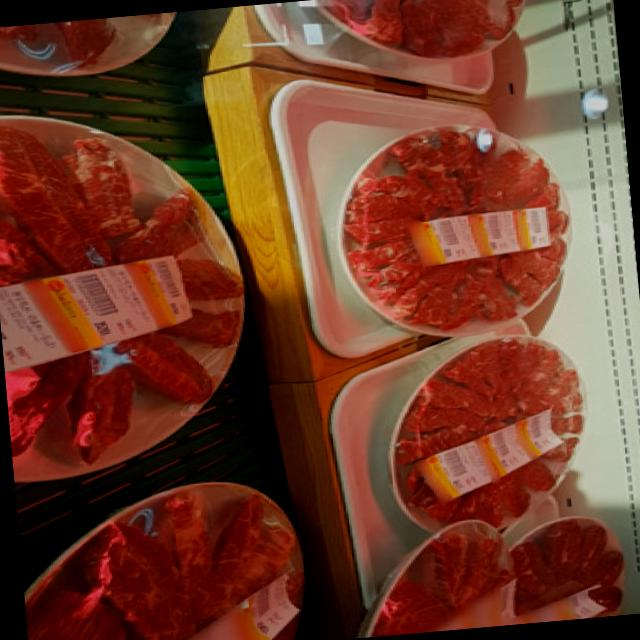beef: (0, 174, 223, 422), (354, 155, 565, 320)
